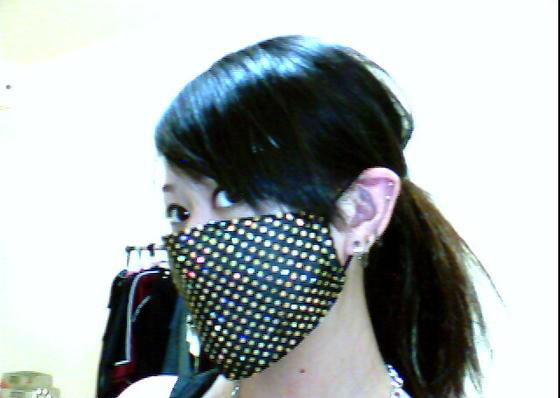OK: (162, 164, 356, 358)
